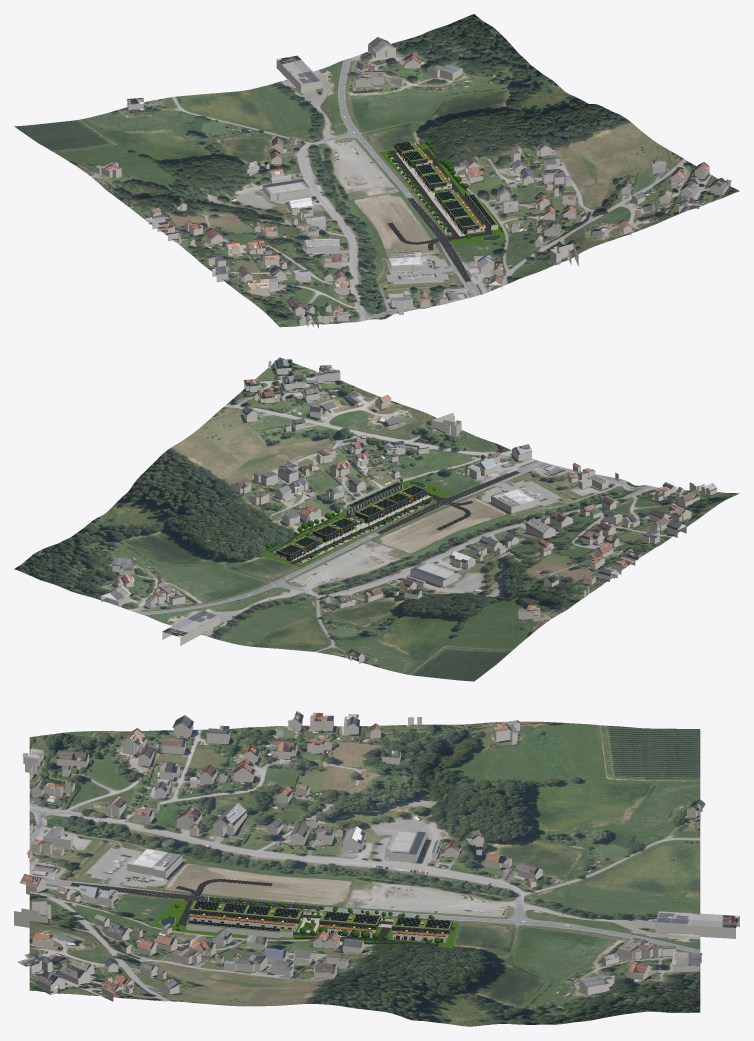
Rendered from teichwiese-v6.glb.
3 renders of one model, top to bottom at view 1: azimuth 30°, elevation 25°; view 2: azimuth 150°, elevation 25°; view 3: azimuth 270°, elevation 25°, orthographic. The views are drawn at different scales.
Visible parts, largest first — view 1: Web_Gelaende, Web_Umgebung, Web_Knoten_B54_Fahrbahn, Web_Rasen_Grundstueck, Web_Bauteil_3_Gebaeude, Web_Bauteil_4_Gebaeude, Web_Bauteil_1_Gebaeude; view 2: Web_Gelaende, Web_Umgebung, Web_Knoten_B54_Fahrbahn, Web_Rasen_Grundstueck, Web_Bauteil_3_Gebaeude, Web_Bauteil_4_Gebaeude, Web_Bauteil_2_Gebaeude, Web_Bauteil_1_Gebaeude, Web_Garagen_1G; view 3: Web_Gelaende, Web_Umgebung, Web_Knoten_B54_Fahrbahn, Web_Rasen_Grundstueck, Web_Bauteil_4_Gebaeude, Web_Bauteil_2_Gebaeude, Web_Garagen_1G, Web_Bauteil_3_Gebaeude, Web_Bauteil_1_Gebaeude.
Part boxes in pixels (bbox=[...]): Web_Gelaende: bbox=[14, 14, 739, 327]; Web_Umgebung: bbox=[94, 37, 731, 328]; Web_Knoten_B54_Fahrbahn: bbox=[387, 198, 471, 281]; Web_Rasen_Grundstueck: bbox=[379, 143, 504, 244]; Web_Bauteil_3_Gebaeude: bbox=[415, 163, 451, 190]; Web_Bauteil_4_Gebaeude: bbox=[394, 140, 432, 167]; Web_Bauteil_1_Gebaeude: bbox=[448, 207, 484, 233]; Web_Gelaende: bbox=[14, 357, 739, 681]; Web_Umgebung: bbox=[101, 359, 717, 663]; Web_Knoten_B54_Fahrbahn: bbox=[376, 471, 520, 534]; Web_Rasen_Grundstueck: bbox=[259, 478, 450, 567]; Web_Bauteil_3_Gebaeude: bbox=[309, 516, 356, 542]; Web_Bauteil_4_Gebaeude: bbox=[272, 535, 318, 561]; Web_Bauteil_2_Gebaeude: bbox=[351, 498, 397, 523]; Web_Bauteil_1_Gebaeude: bbox=[384, 484, 426, 509]; Web_Garagen_1G: bbox=[342, 481, 402, 514]; Web_Gelaende: bbox=[29, 721, 700, 1026]; Web_Umgebung: bbox=[14, 711, 739, 1001]; Web_Knoten_B54_Fahrbahn: bbox=[70, 879, 320, 909]; Web_Rasen_Grundstueck: bbox=[152, 900, 458, 948]; Web_Bauteil_4_Gebaeude: bbox=[391, 916, 452, 942]; Web_Bauteil_2_Gebaeude: bbox=[242, 905, 303, 931]; Web_Garagen_1G: bbox=[186, 920, 292, 938]; Web_Bauteil_3_Gebaeude: bbox=[319, 911, 380, 937]; Web_Bauteil_1_Gebaeude: bbox=[189, 900, 248, 924].
Bounding box in the file's own units: 614 × 61.23 × 650.
69 materials, 2 textured.
